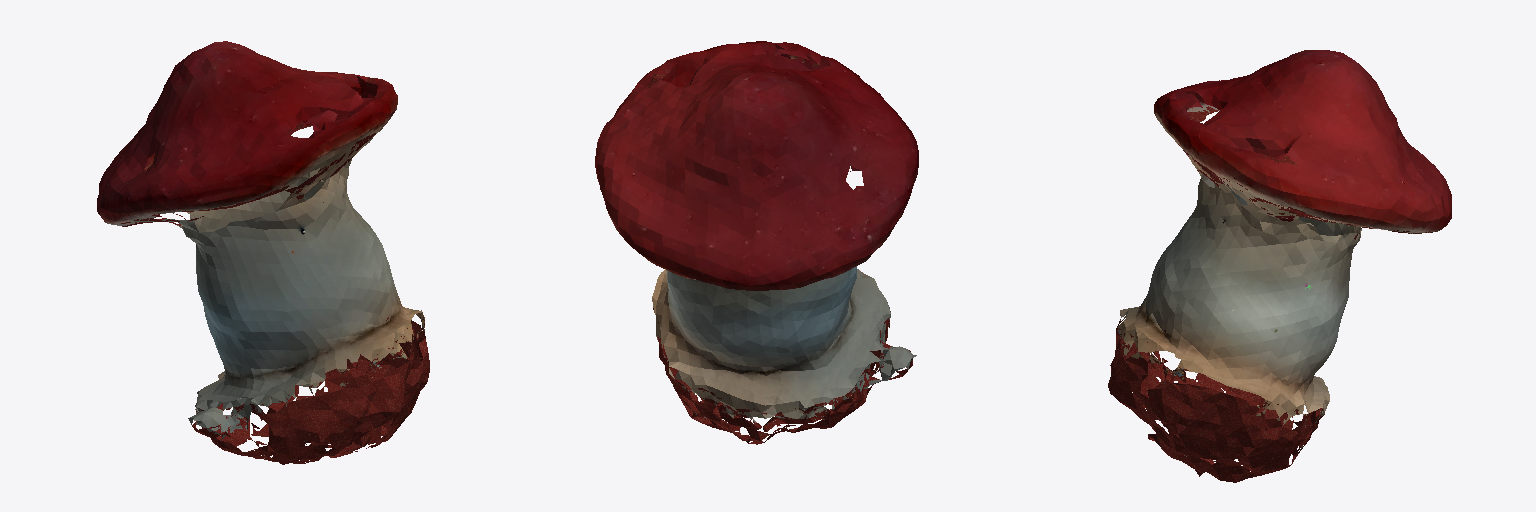
3 renders of one model, left to right at view 1: azimuth 30°, elevation 25°; view 2: azimuth 150°, elevation 25°; view 3: azimuth 270°, elevation 25°, orthographic.
Parts seen in each view (by area): view 1: instant_mesh; view 2: instant_mesh; view 3: instant_mesh.
Part boxes in pixels (x1,y1,x2,y2): instant_mesh: (97,41,429,464); instant_mesh: (595,41,918,444); instant_mesh: (1108,50,1451,482).
Bounding box in the file's own units: 0.5388 × 0.7261 × 0.5903.
1 materials, 1 textured.